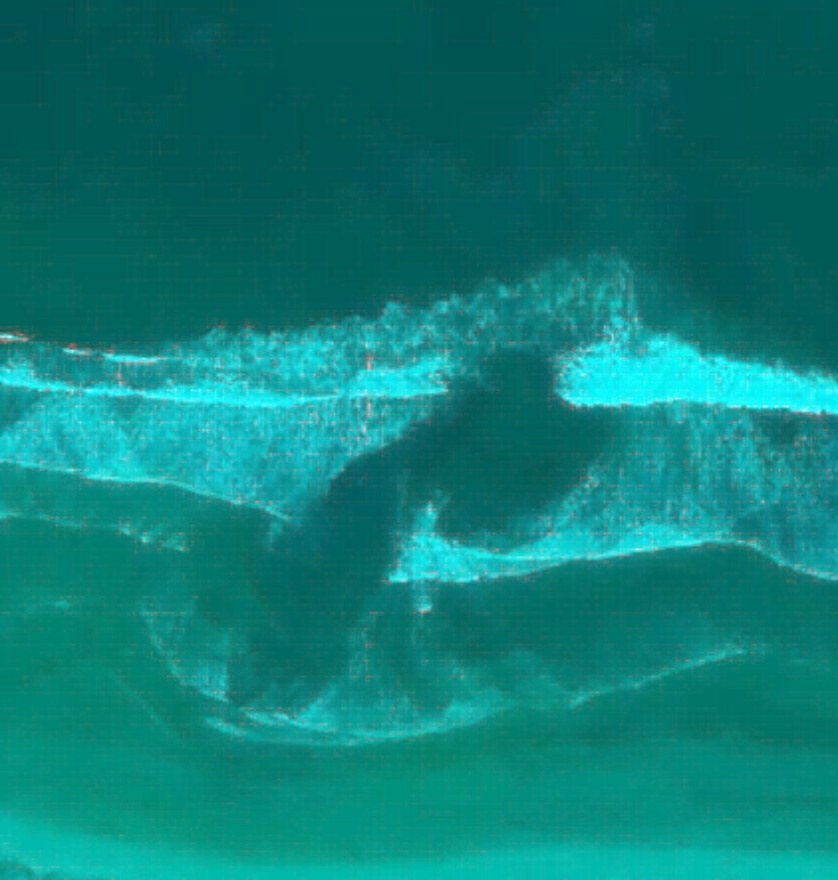rip_current: (180, 278, 605, 693)
